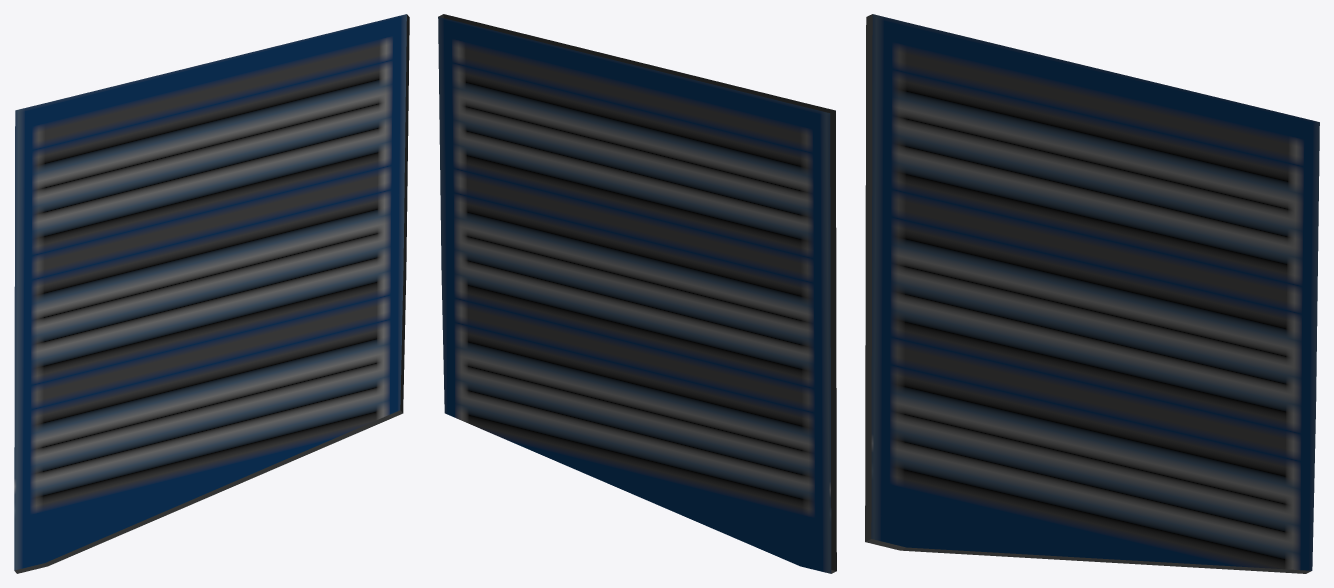
The model's file is PortaLateral01.glb.
3 renders of one model, left to right at view 1: azimuth 30°, elevation 25°; view 2: azimuth 150°, elevation 25°; view 3: azimuth 330°, elevation 25°, orthographic. The views are drawn at different scales.
Parts seen in each view (by area): view 1: Cube_nishitetsu_0.005; view 2: Cube_nishitetsu_0.005; view 3: Cube_nishitetsu_0.005.
Boxes of the visible parts, x1,y1,x2,y2 form: Cube_nishitetsu_0.005: [14, 14, 409, 573]; Cube_nishitetsu_0.005: [438, 14, 836, 573]; Cube_nishitetsu_0.005: [865, 14, 1319, 573].
Size of the model in its own units: 8.18 by 9.14 by 0.1506.
2 materials, 1 textured.
